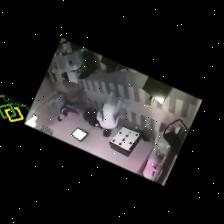person: (97, 92, 122, 136), (143, 131, 162, 179)
